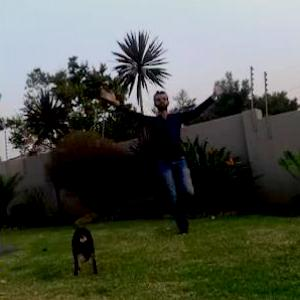takeoff: (114, 86, 218, 215)
